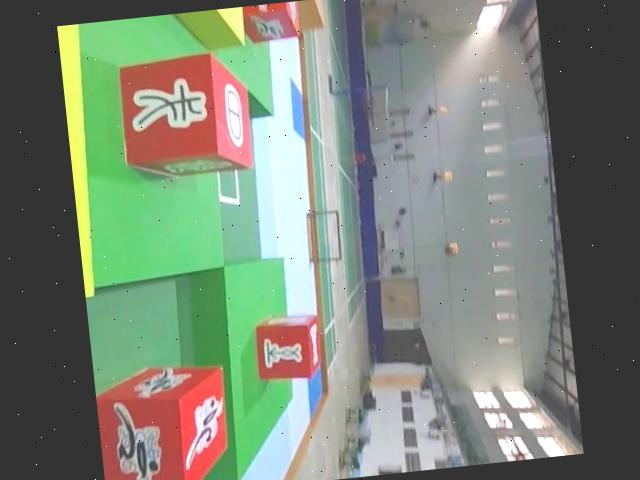R1: (92, 359, 237, 480), (240, 1, 300, 47)
R2 Fake: (114, 48, 258, 184)
R2 Real: (249, 313, 325, 384)
